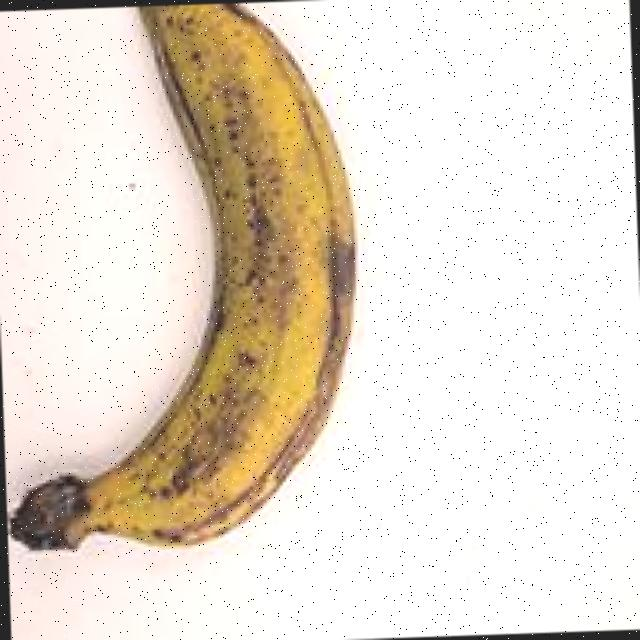Overripe: (0, 0, 382, 577)
